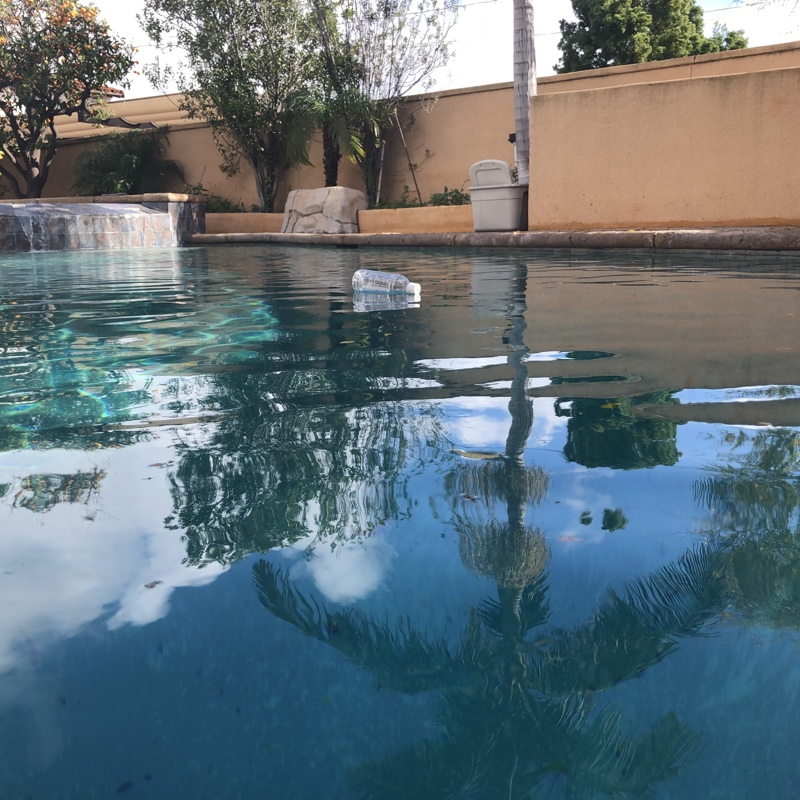Plastic Bottle: (349, 268, 418, 295)
